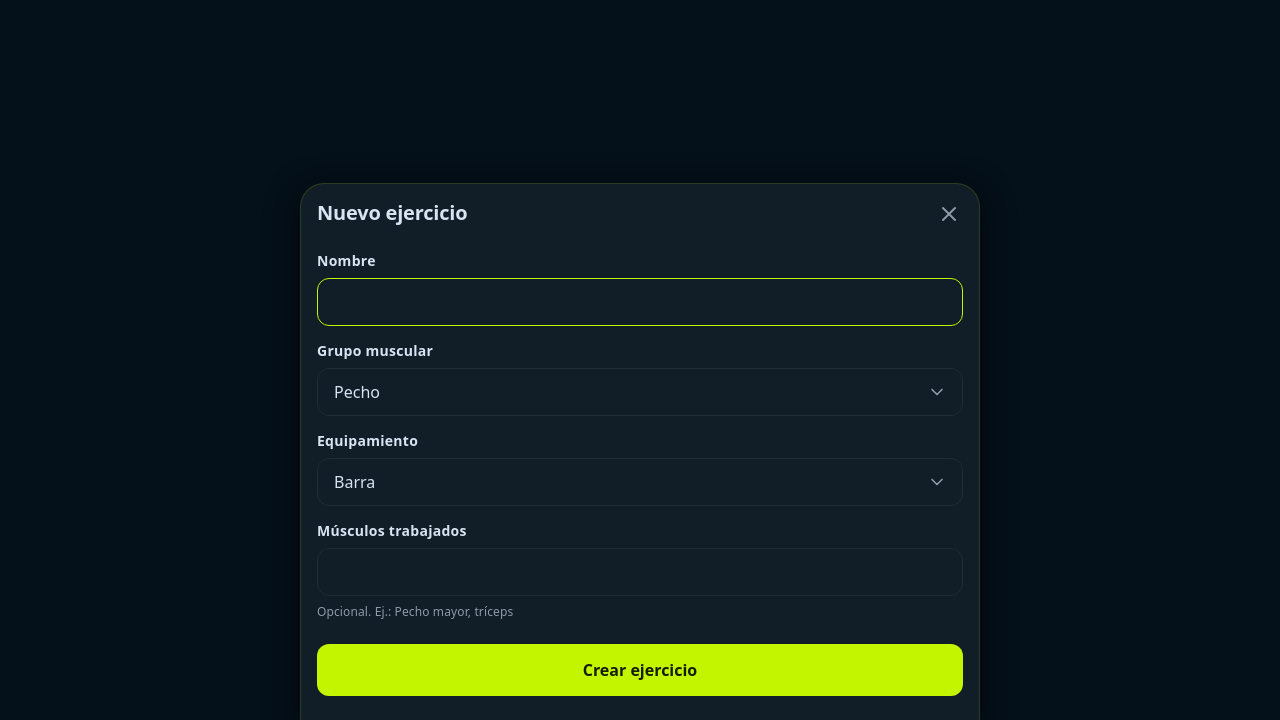
it: ExerciseSheet: crear › rechaza un nombre igual a uno de la semilla aunque cambien tildes y mayúsculas
Type "JALON AL PECHO" into the field labelled "Nombre" at [640, 302], box 317,278 -> 963,326
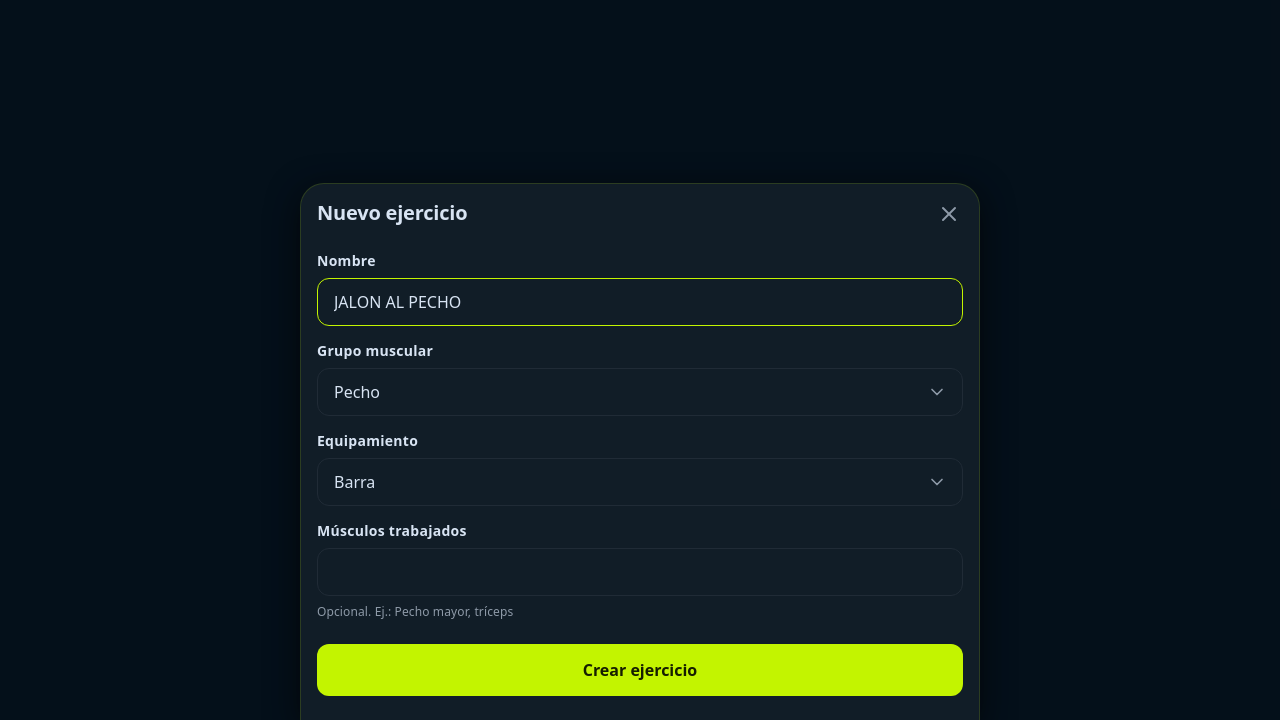
Click the button "Crear ejercicio" at [640, 670], box 317,644 -> 963,696
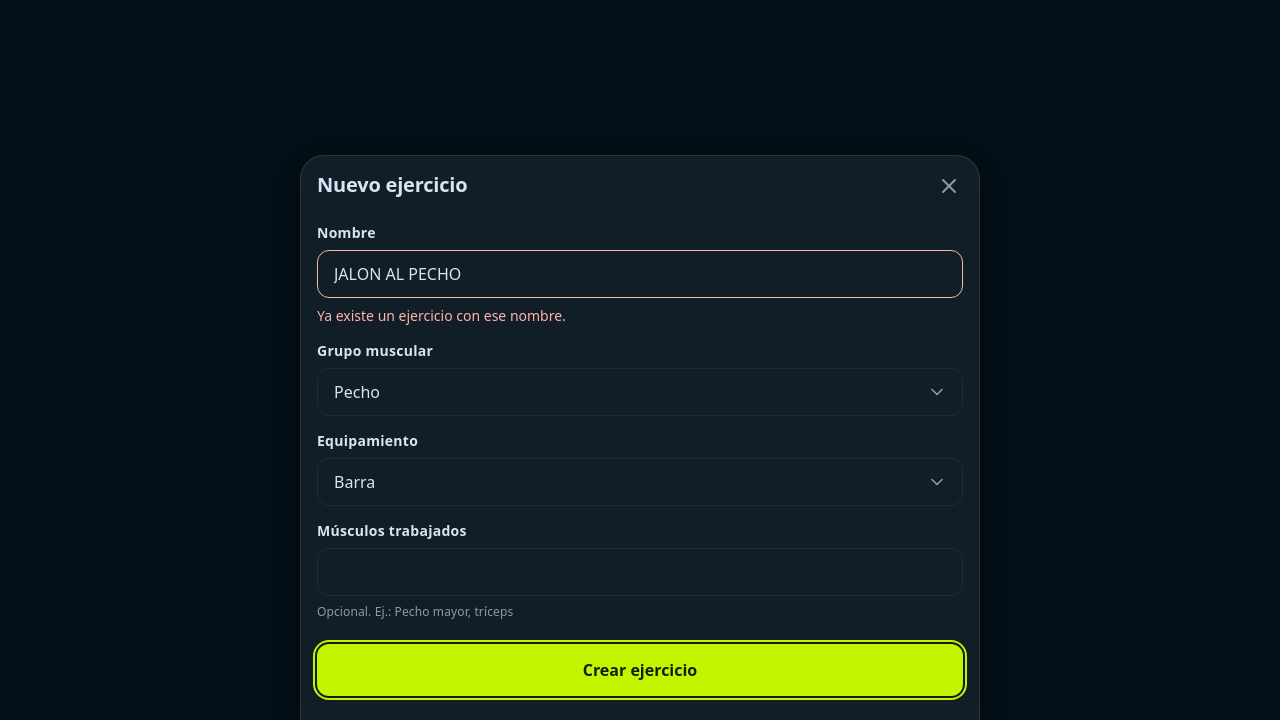
Now the text "Ya existe un ejercicio con ese nombre." is shown, box 317,306 -> 566,325
